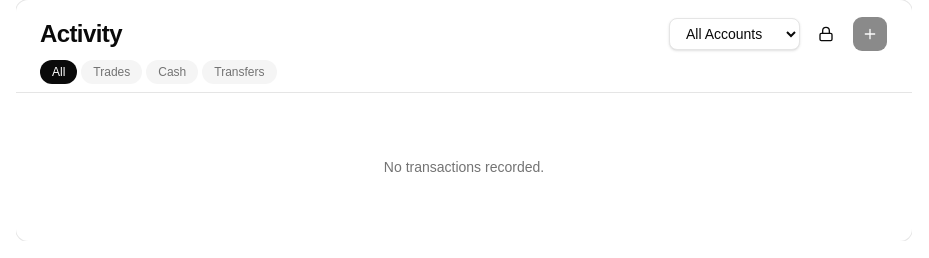
Test: ActivityPage › loads transactions when an account is selected
Select "Main Account" in the dropdown named "Account:": {"x": 734, "y": 34} [669,18,800,50]
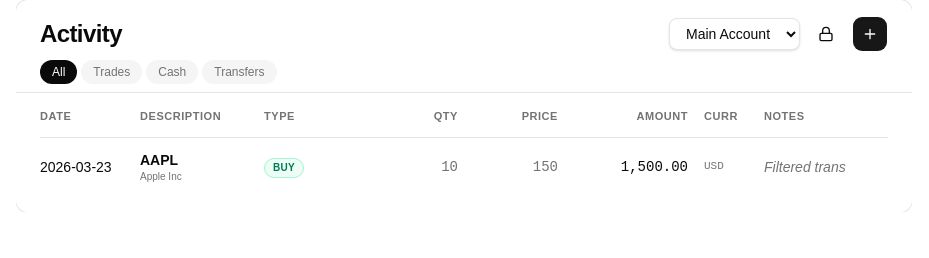
Expected: the cell titled "Filtered trans" is shown, [764,137,888,196]
Expected: the button named "Add Activity" is enabled, [852,16,888,52]
